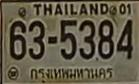3: (78, 19, 94, 59), (28, 20, 44, 59)
4: (116, 19, 132, 58)
5: (60, 19, 76, 59)
6: (9, 20, 25, 59)
8: (97, 19, 113, 58)
BKK: (29, 65, 114, 83)
